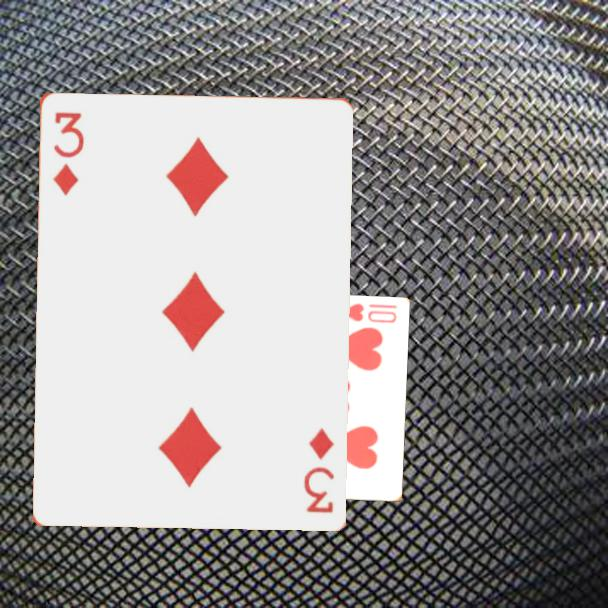d03: (299, 424, 336, 516), (49, 108, 86, 198)
h10: (338, 300, 400, 326)
